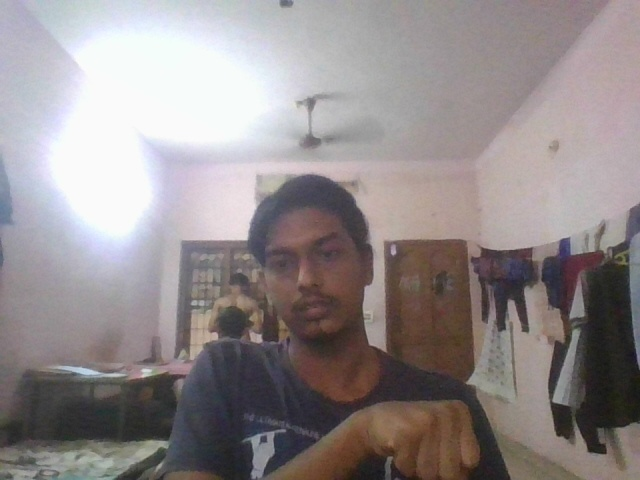yes: (343, 391, 504, 480)
